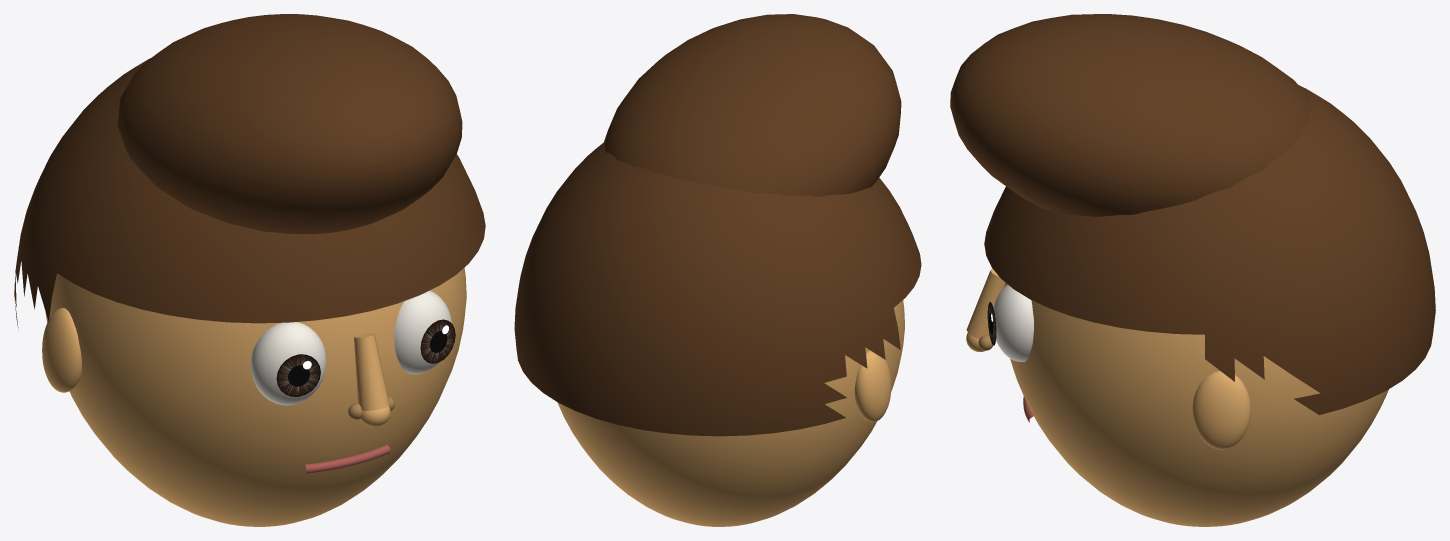
The model's file is homme-05-banane.glb.
3 renders of one model, left to right at view 1: azimuth 30°, elevation 25°; view 2: azimuth 150°, elevation 25°; view 3: azimuth 270°, elevation 25°, orthographic. The views are drawn at different scales.
Size of the model in its own units: 0.3205 by 0.3793 by 0.3482.
10 materials, 1 textured.
